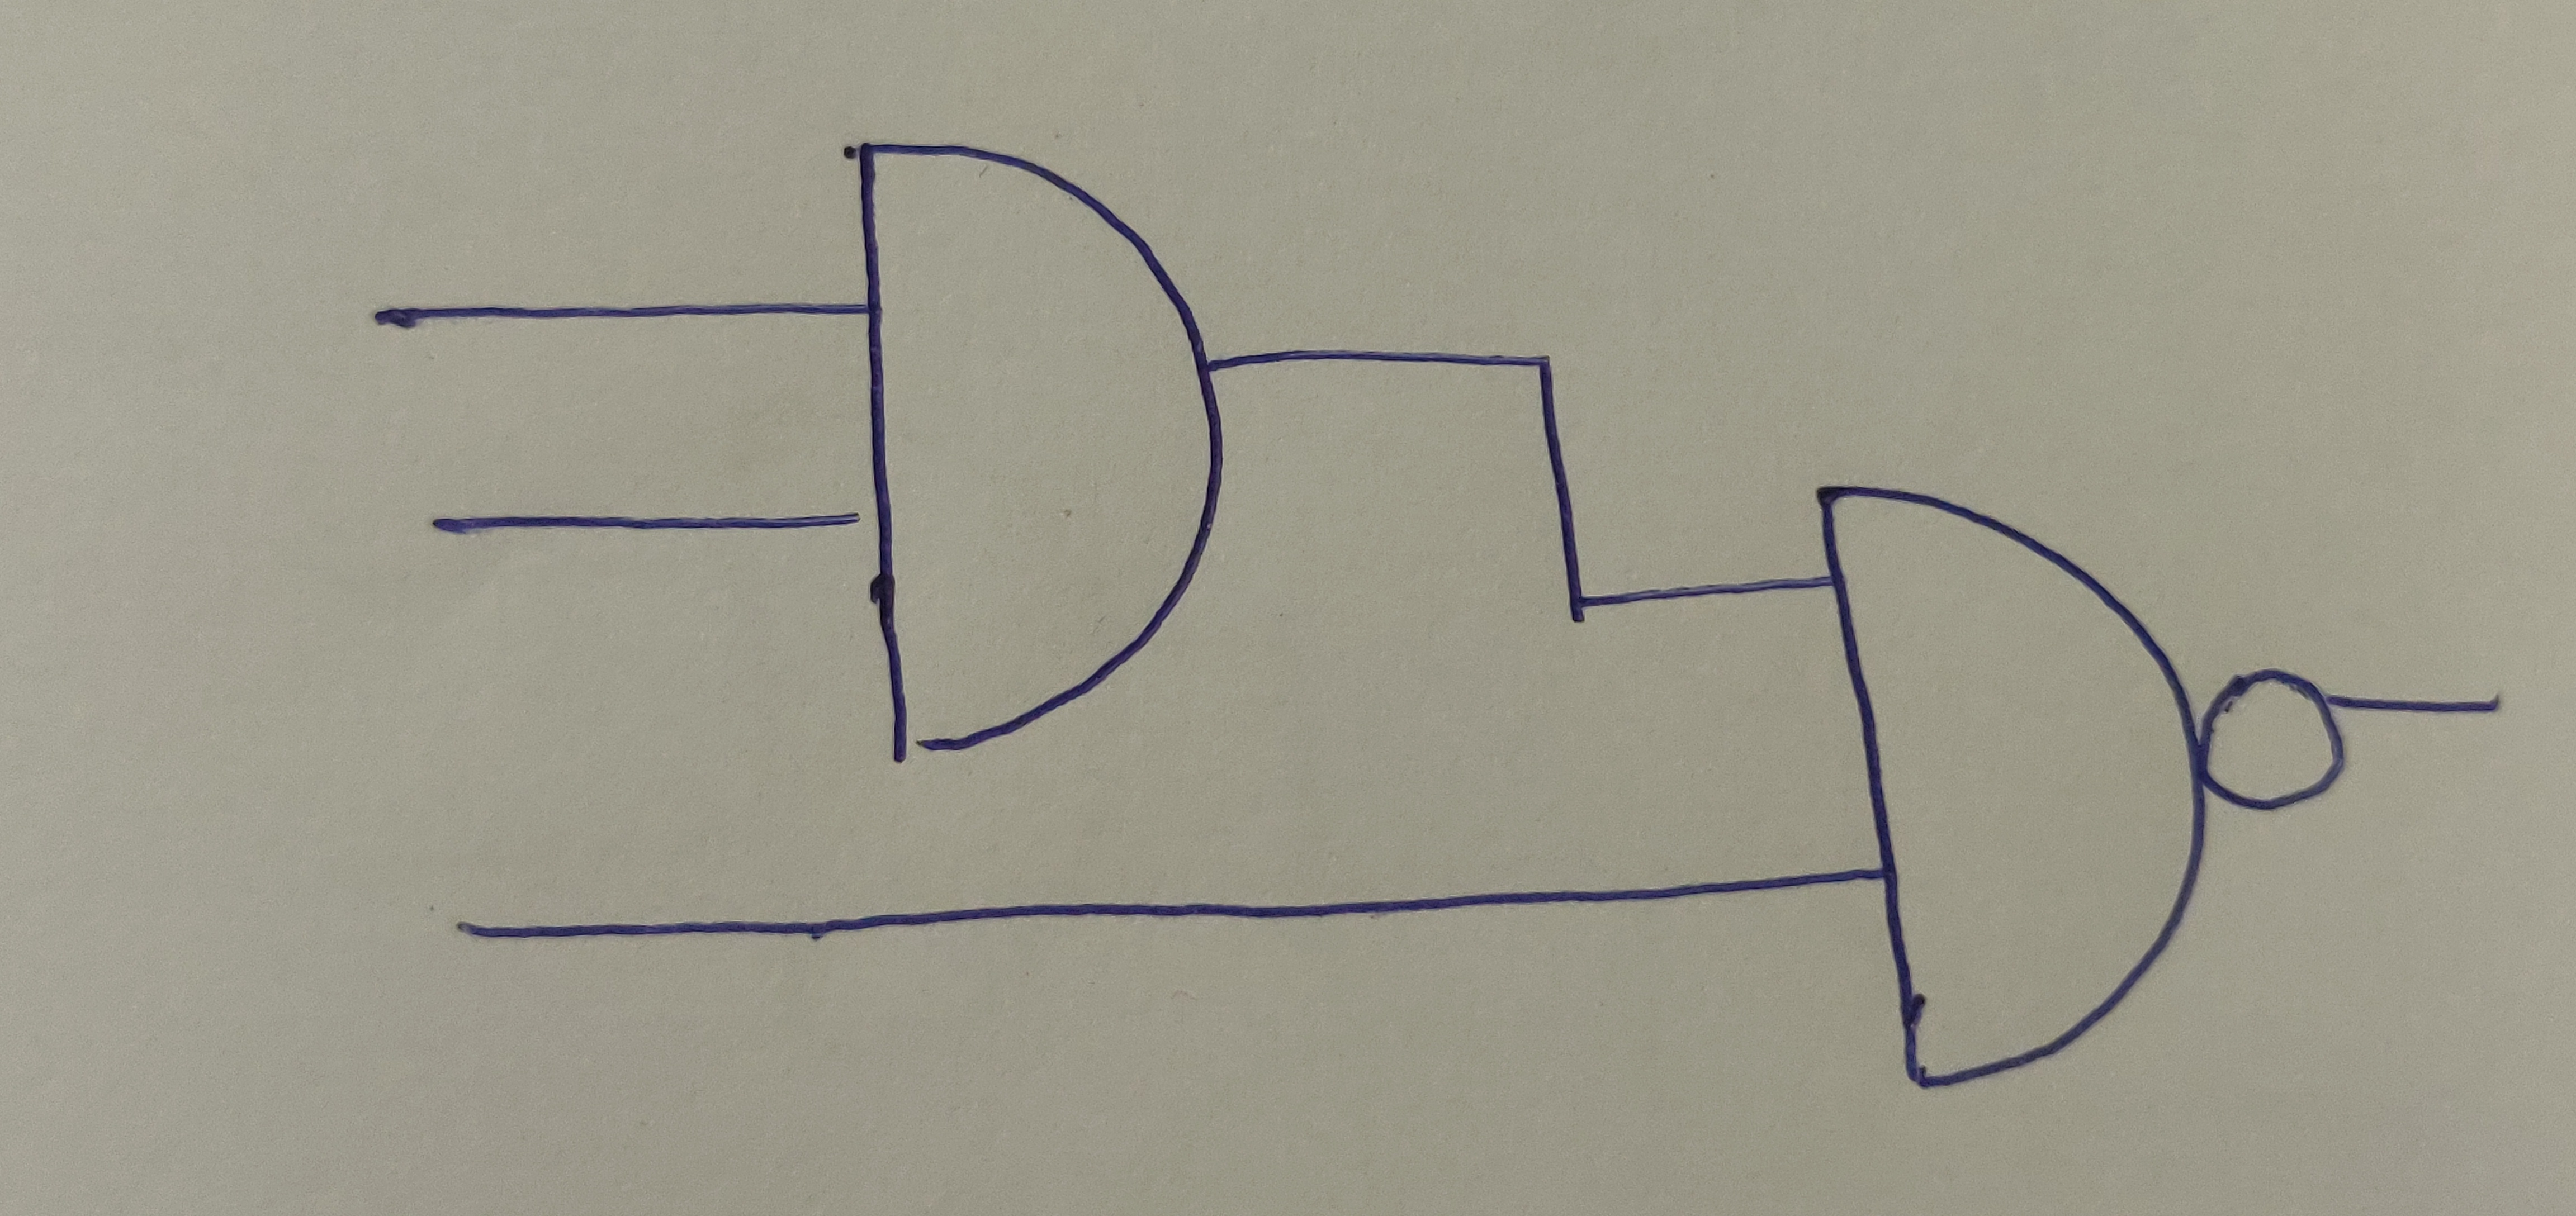and: (1805, 473, 2203, 1094), (851, 138, 1224, 758)
not: (2193, 666, 2353, 813)
